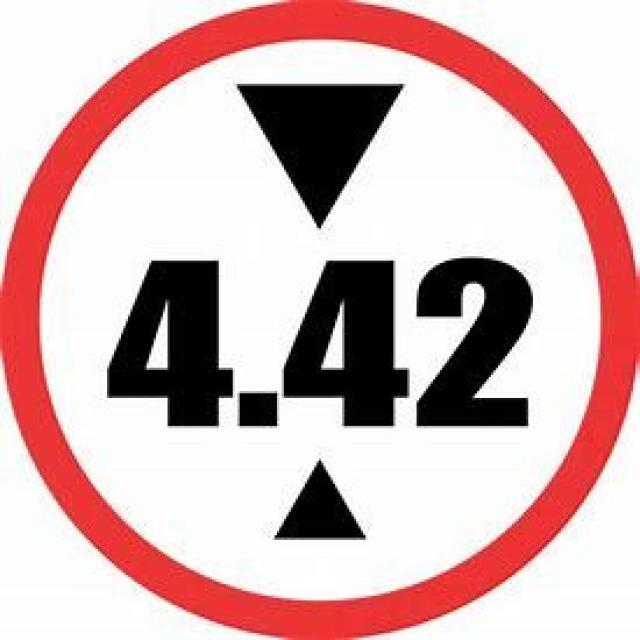height limit: (21, 18, 619, 613)
